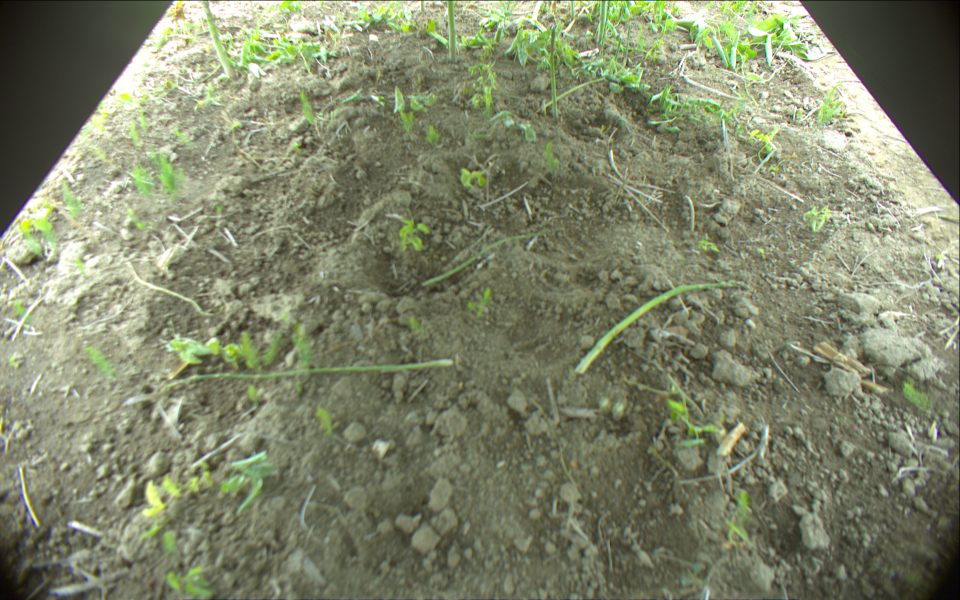aspa: (574, 282, 747, 374), (154, 357, 453, 397), (419, 226, 568, 289), (201, 1, 236, 79), (542, 77, 612, 111), (550, 25, 559, 119), (444, 1, 456, 59), (599, 1, 609, 50), (568, 1, 575, 20), (418, 1, 427, 12)
